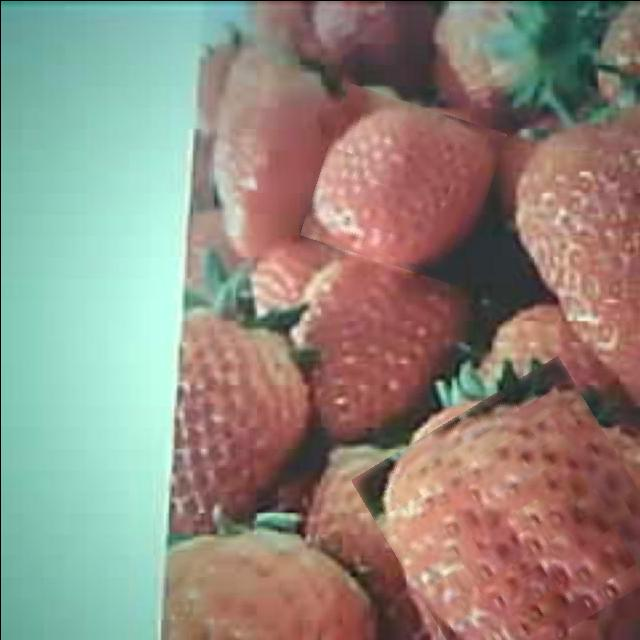strawberry: (373, 377, 640, 640), (310, 93, 496, 275)
